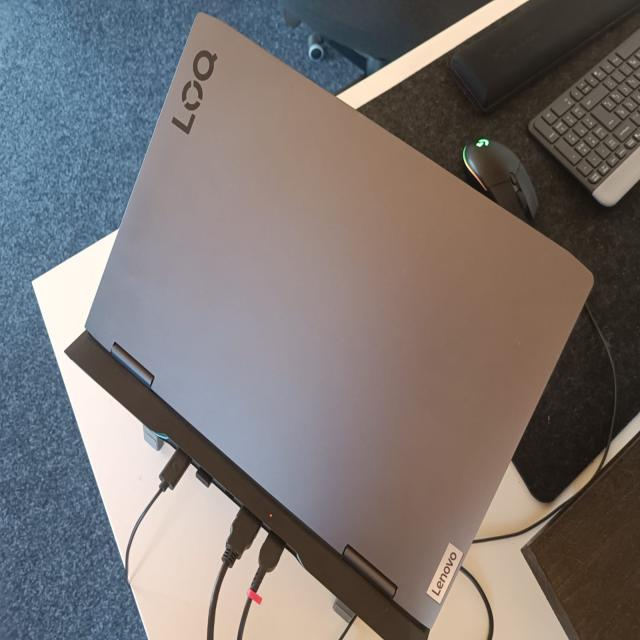Laptops_bbox: (42, 0, 612, 640)
